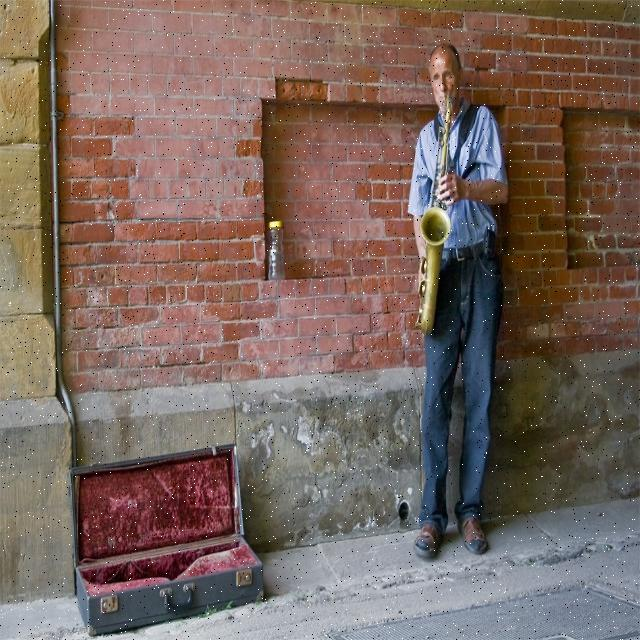saxophone: (416, 96, 456, 339)
